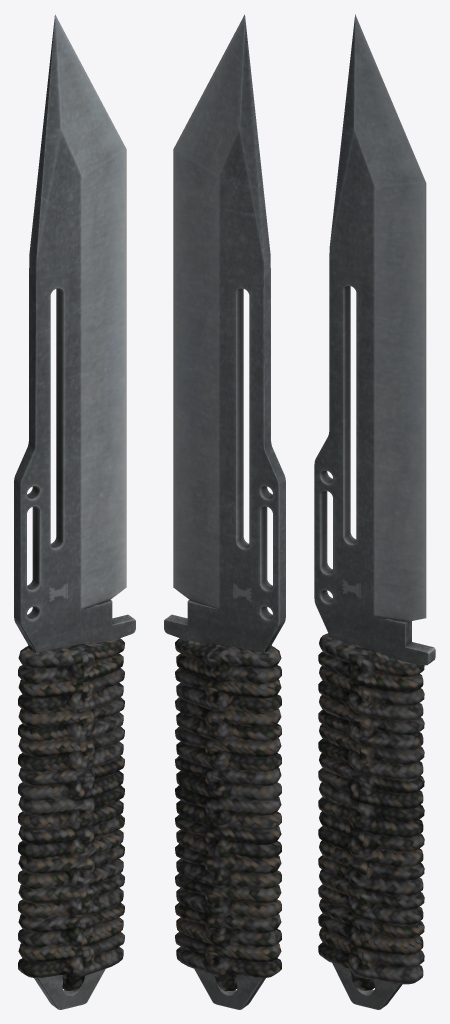
File: weapon_knife_cord.glb
The picture shows the model from 3 angles, left to right: view 1: azimuth 30°, elevation 25°; view 2: azimuth 150°, elevation 25°; view 3: azimuth 330°, elevation 25°; orthographic projection.
Parts seen in each view (by area): view 1: weapons/models/knife/knife_cord/weapon_knife_cord.vmdl_c.bod; view 2: weapons/models/knife/knife_cord/weapon_knife_cord.vmdl_c.bod; view 3: weapons/models/knife/knife_cord/weapon_knife_cord.vmdl_c.bod.
Boxes of the visible parts, bbox=[...] form: weapons/models/knife/knife_cord/weapon_knife_cord.vmdl_c.bod: bbox=[14, 14, 135, 1009]; weapons/models/knife/knife_cord/weapon_knife_cord.vmdl_c.bod: bbox=[164, 14, 285, 1009]; weapons/models/knife/knife_cord/weapon_knife_cord.vmdl_c.bod: bbox=[314, 14, 435, 1009].
Size of the model in its own units: 1.76 by 14.49 by 0.718.
1 material, 1 textured.
